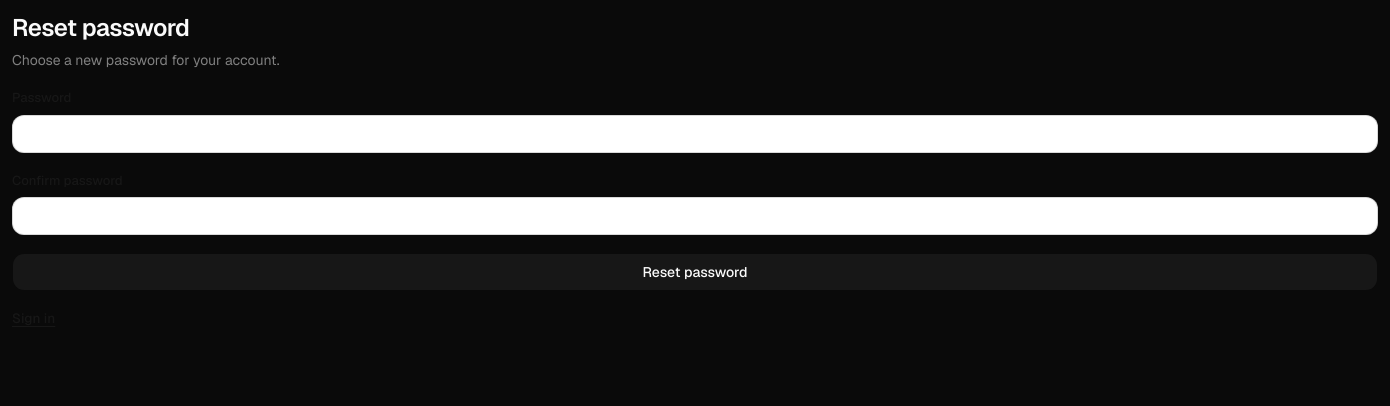
Test: ResetPasswordForm › shows a clear message when Better Auth rejects the token
Type "a-long-enough-password" into the password field labelled "Password" at (695, 134), box [12,114,1378,152]
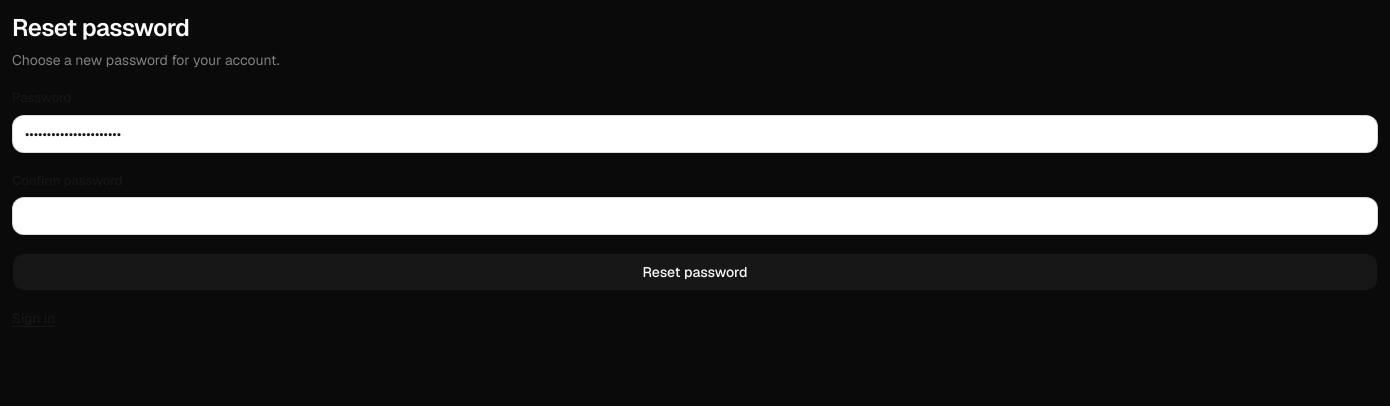
Type "a-long-enough-password" into the password field labelled "Confirm password" at (695, 216), box [12,197,1378,235]
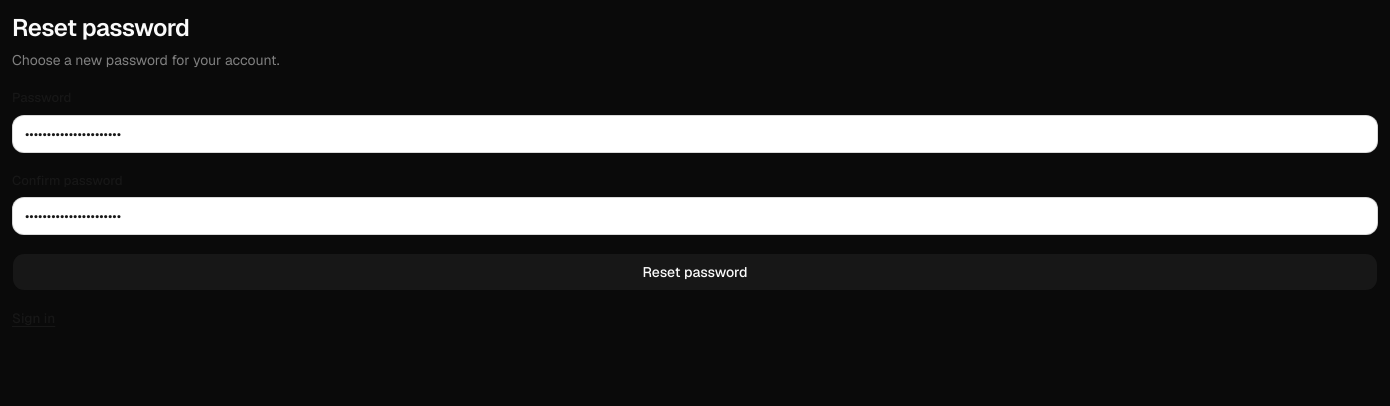
Click the button "Reset password" at (695, 272), box [12,253,1378,291]
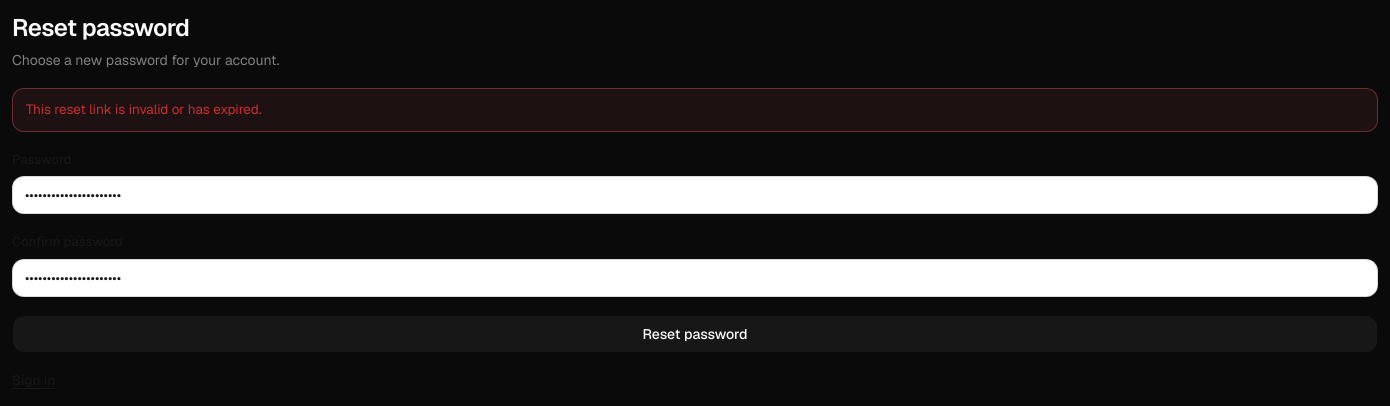
Result: the message reads "This reset link is invalid or has expired." at [26,100,262,118]
